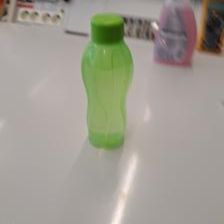bottle: (79, 11, 135, 146)
